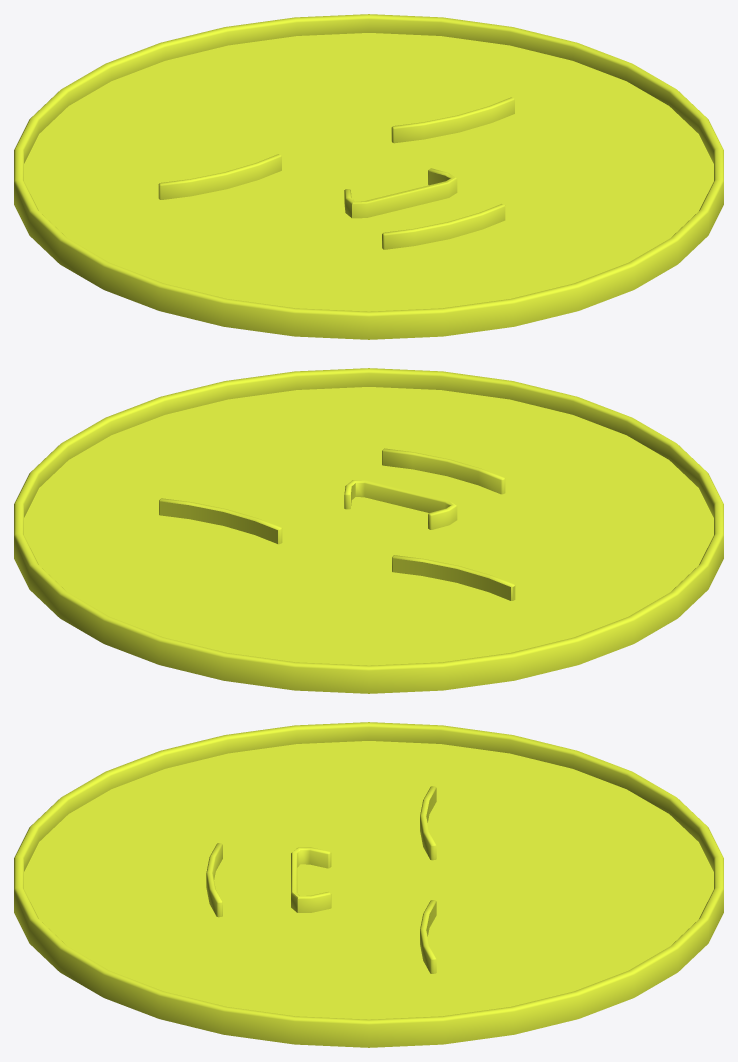
File: MaskPlate.fbx
3 views of the same model, one above another, from view 1: azimuth 30°, elevation 25°; view 2: azimuth 150°, elevation 25°; view 3: azimuth 270°, elevation 25° (orthographic).
Parts seen in each view (by area): view 1: MaskPlate; view 2: MaskPlate; view 3: MaskPlate.
Boxes of the visible parts, x1,y1,x2,y2 form: MaskPlate: (14,14,723,339); MaskPlate: (14,368,723,693); MaskPlate: (14,722,723,1047).
Bounding box in the file's own units: 24.12 × 0.9282 × 23.98.
